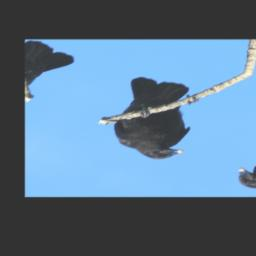Crow: (77, 71, 235, 165)
